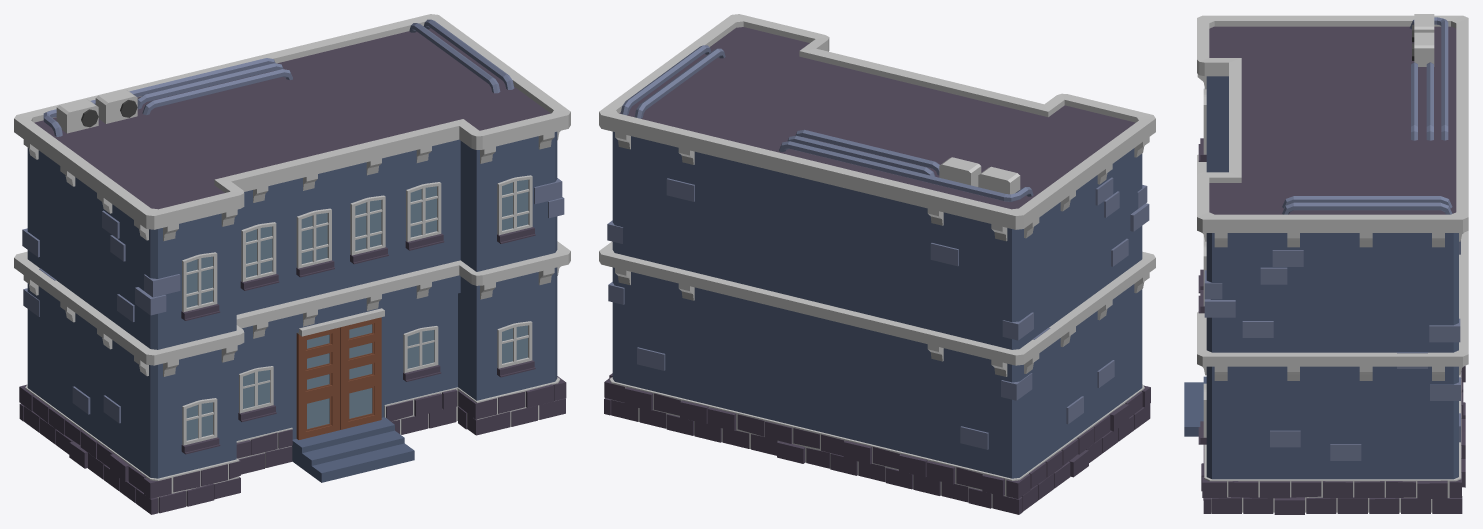
File: two-story-wide.glb
3 renders of one model, left to right at view 1: azimuth 30°, elevation 25°; view 2: azimuth 150°, elevation 25°; view 3: azimuth 270°, elevation 25°, orthographic.
Parts seen in each view (by area): view 1: 2Story_Wide_Cube.032; view 2: 2Story_Wide_Cube.032; view 3: 2Story_Wide_Cube.032.
Part boxes in pixels (box(x1,y1,x2,y2)): 2Story_Wide_Cube.032: box(14, 14, 570, 514); 2Story_Wide_Cube.032: box(599, 14, 1155, 514); 2Story_Wide_Cube.032: box(1184, 14, 1468, 514).
Bounding box in the file's own units: 3.83 × 2.75 × 2.26.
1 material, 1 textured.
